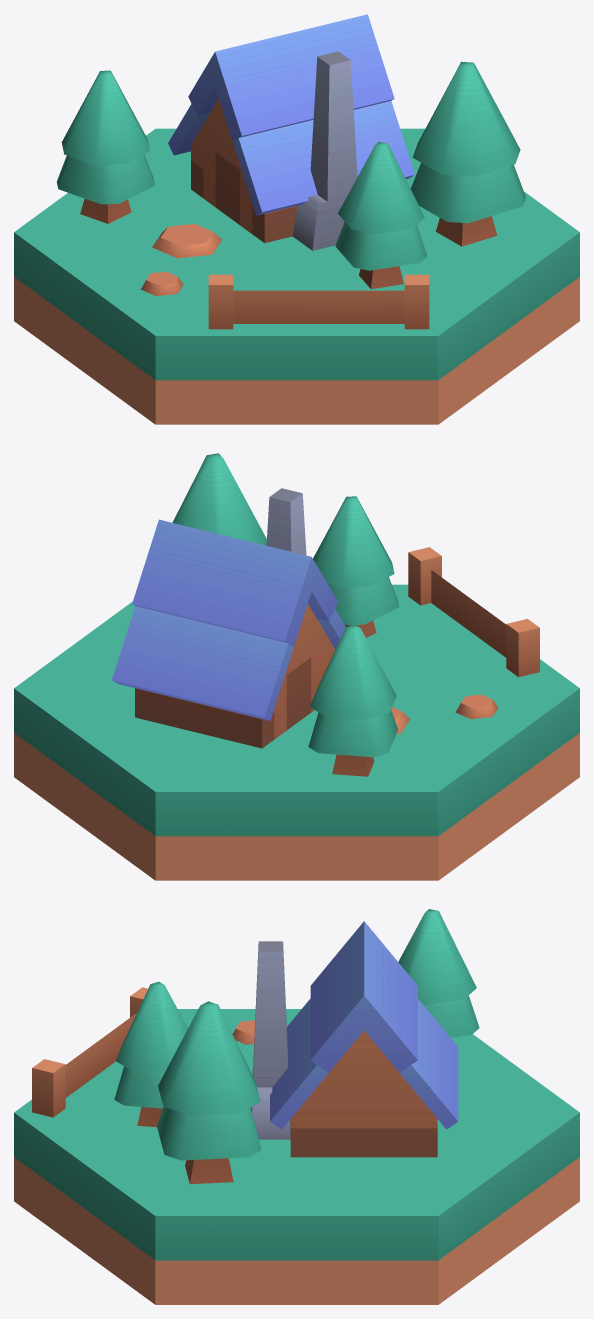
The model's file is building-house.glb.
3 views of the same model, one above another, from view 1: azimuth 30°, elevation 25°; view 2: azimuth 150°, elevation 25°; view 3: azimuth 270°, elevation 25° (orthographic).
Visible parts, largest first — view 1: building-house; view 2: building-house; view 3: building-house.
Part boxes in pixels (left/top/right/bottom): building-house: left=14, top=14, right=579, bottom=424; building-house: left=14, top=453, right=579, bottom=880; building-house: left=14, top=909, right=579, bottom=1304.
Bounding box in the file's own units: 1 × 0.6 × 1.15.
Materials: 1 (1 with a texture image).
